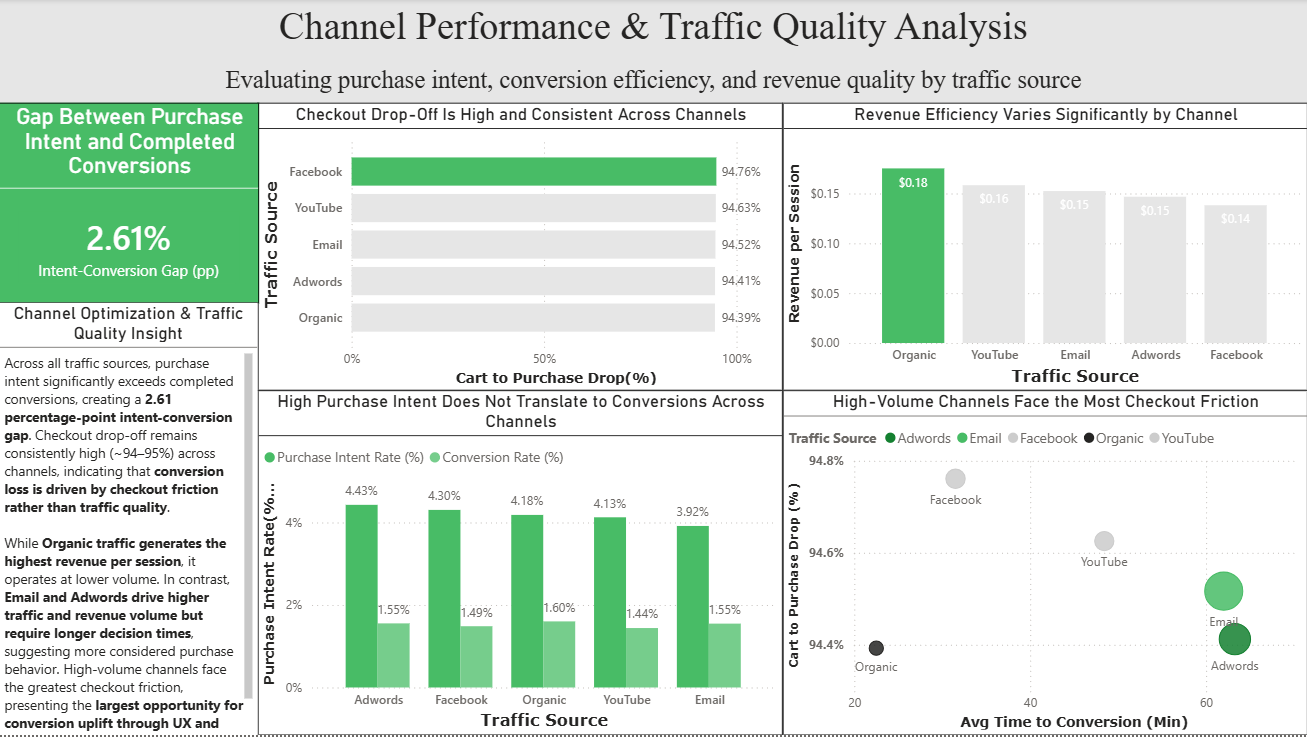

What the dashboard file says about the page in this screenshot:
{"tool":"powerbi","page":{"name":"Channel Optimization","canvas":[1280,720],"ordinal":2},"visuals":[{"type":"textbox","box":[0,0,1280.3,101.5],"z":0},{"type":"scatterChart","title":"High-Volume Channels Face the Most Checkout Friction","fields":{"X":["Marketing_Session_Analysis.Avg Time to Conversion (Min)"],"Y":["Marketing_Session_Analysis.Cart → Purchase Drop (%)"],"Series":["Marketing_Session_Analysis.TRAFFIC_SOURCE"],"Size":["Marketing_Session_Analysis.Total Sessions"]},"box":[766.7,382.7,513.6,337.5],"z":1000},{"type":"clusteredColumnChart","title":"Revenue Efficiency Varies Significantly by Channel","fields":{"Y":["Marketing_Session_Analysis.Revenue per Session"],"Category":["Marketing_Session_Analysis.TRAFFIC_SOURCE"]},"box":[766.7,101.5,513.6,281.3],"z":2000},{"type":"clusteredBarChart","title":"Checkout Drop-Off Is High and Consistent Across Channels","fields":{"Category":["Marketing_Session_Analysis.TRAFFIC_SOURCE"],"Y":["Marketing_Session_Analysis.Cart to Purchase Drop (%)"]},"box":[253.1,101.5,513.6,281.3],"z":3000},{"type":"clusteredColumnChart","title":"High Purchase Intent Does Not Translate to Conversions Across Channels","fields":{"Category":["Marketing_Session_Analysis.TRAFFIC_SOURCE"],"Y":["Marketing_Session_Analysis.Purchase Intent Rate (%)","Marketing_Session_Analysis.Conversion Rate (%)"]},"box":[253.1,382.7,513.6,337.5],"z":4000},{"type":"cardVisual","title":"Gap Between Purchase Intent and Completed Conversions","fields":{"Data":["Marketing_Session_Analysis.Intent-Conversion Gap (pp)"]},"box":[0,101.5,254.3,195.7],"z":5000},{"type":"textbox","title":"Channel Optimization & Traffic Quality Insight","box":[0,297.1,253.1,423.1],"z":6000}]}

Visuals, with their boxes in screenshot pixels (x1, y1, x2, y2), scaled from the page's 1280x720 canvas onto the 1307x737 screenshot:
textbox: 0 0 1306 104
"High-Volume Channels Face the Most Checkout Friction" scatterChart: 783 392 1306 736
"Revenue Efficiency Varies Significantly by Channel" clusteredColumnChart: 783 104 1306 392
"Checkout Drop-Off Is High and Consistent Across Channels" clusteredBarChart: 258 104 783 392
"High Purchase Intent Does Not Translate to Conversions Across Channels" clusteredColumnChart: 258 392 783 736
"Gap Between Purchase Intent and Completed Conversions" cardVisual: 0 104 260 304
"Channel Optimization & Traffic Quality Insight" textbox: 0 304 258 736
